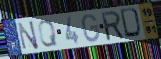4: (65, 15, 81, 46)
D: (119, 6, 144, 39)
G: (81, 13, 101, 44)
N: (16, 19, 41, 51)
Q: (37, 19, 59, 49)
R: (100, 9, 126, 42)
